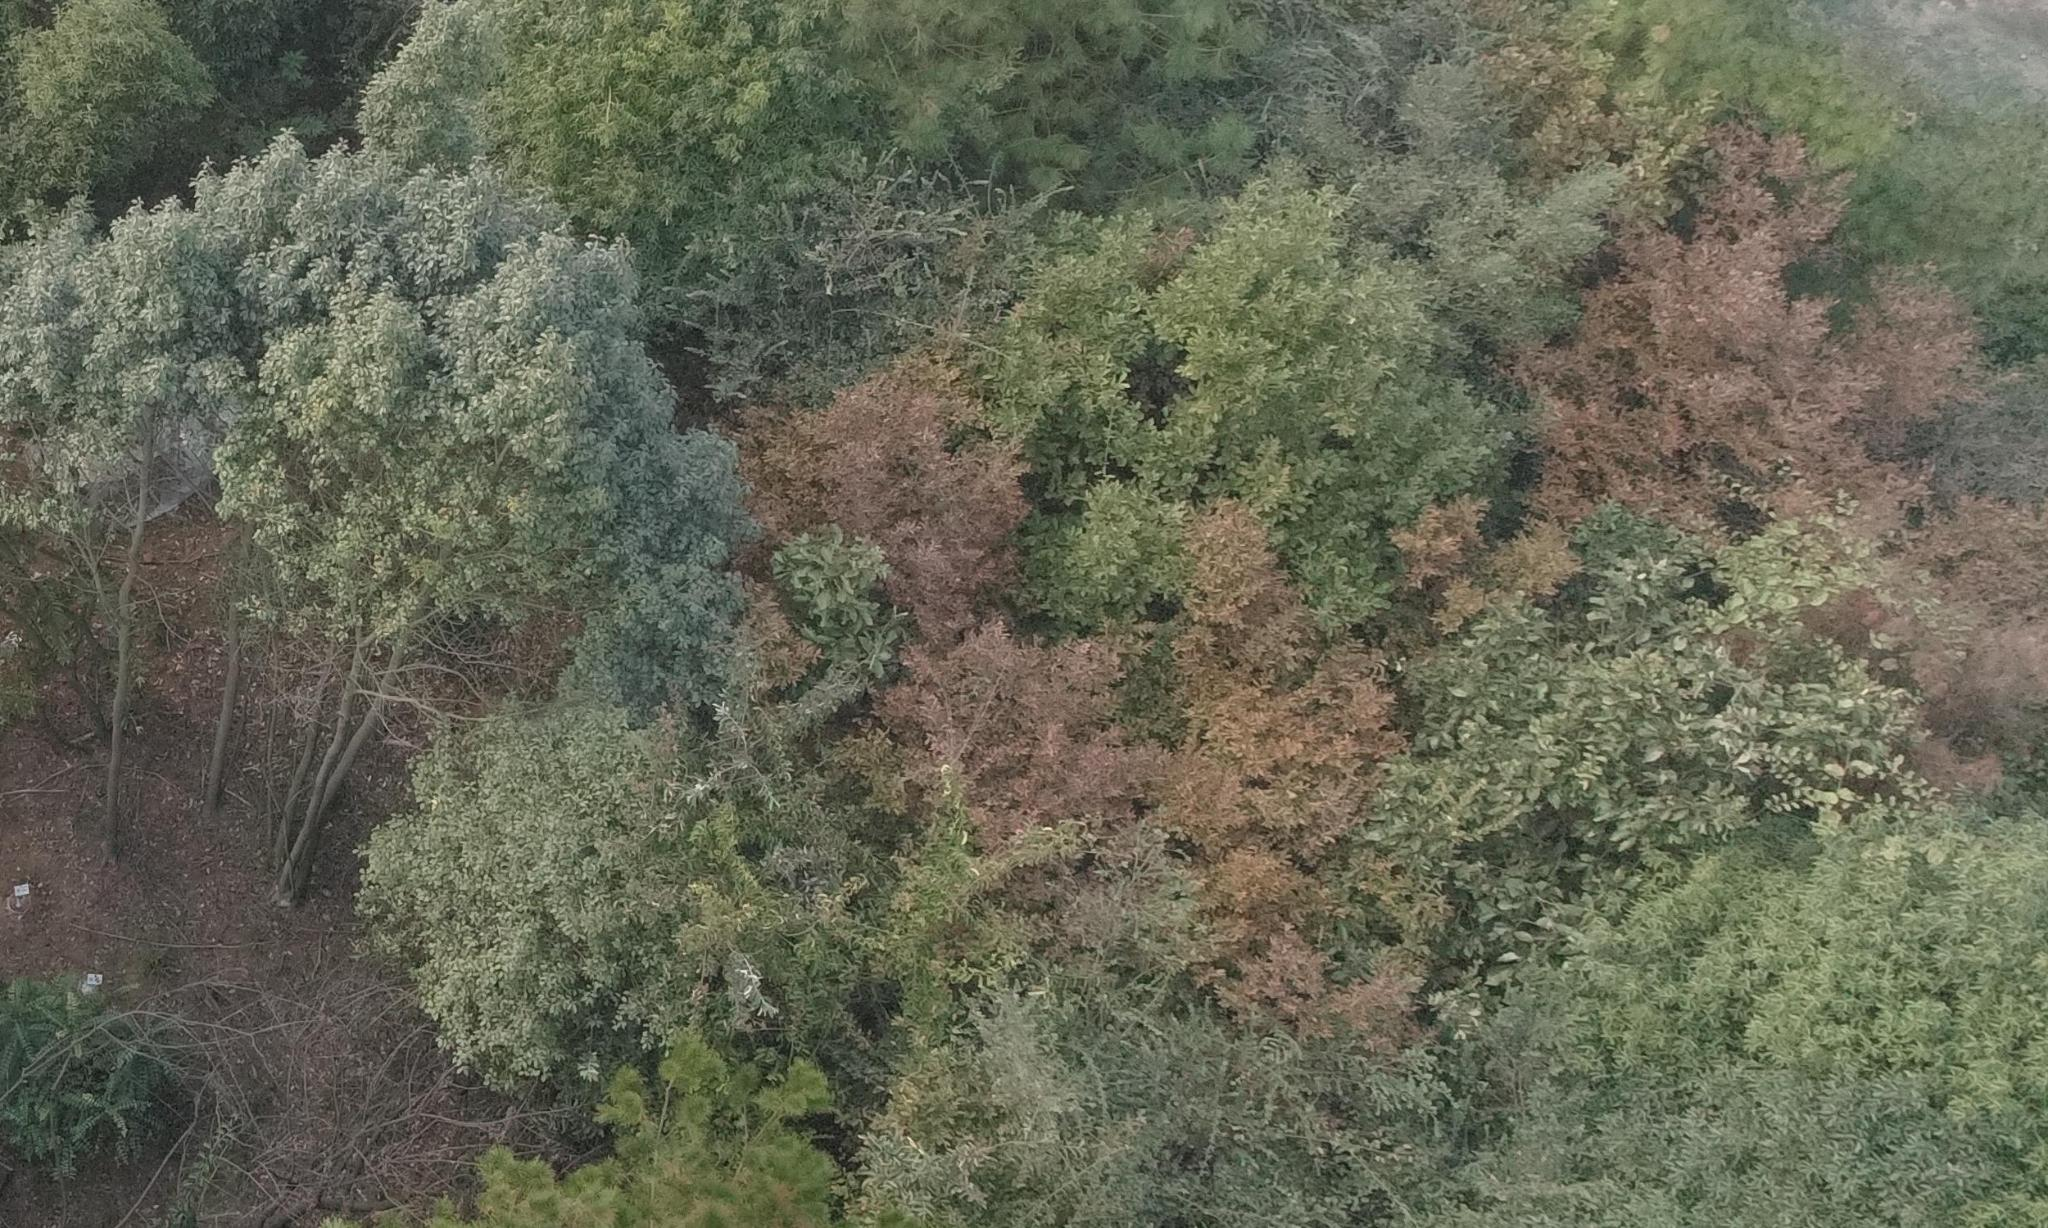heavy: (681, 346, 1371, 940), (1497, 111, 2048, 754)
